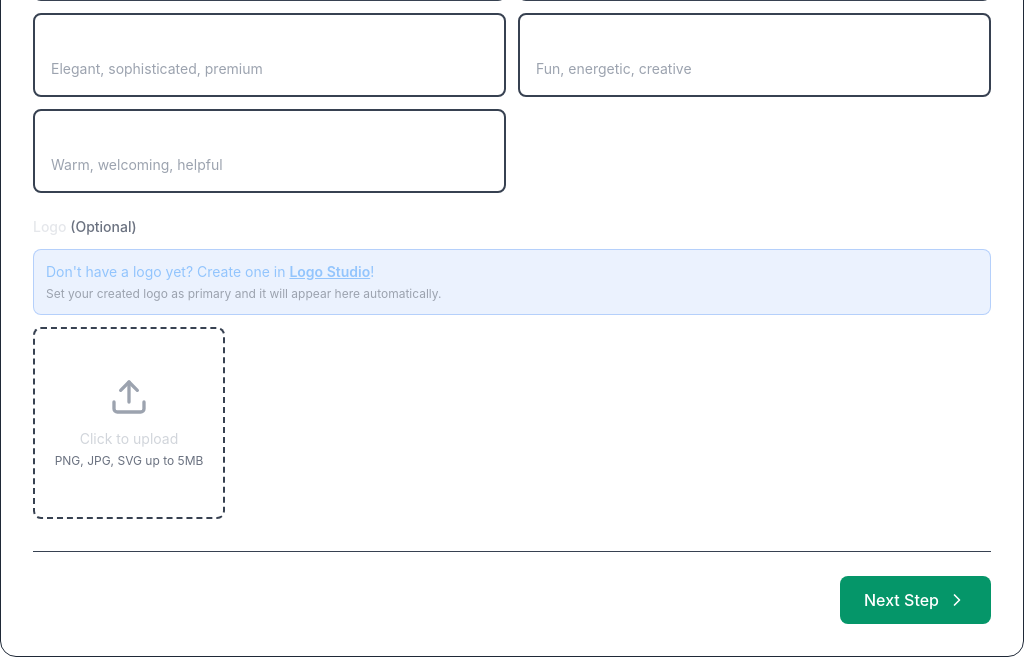
Test: WizardContainer › advances to next step when Next button clicked
(page scrolled)
Step 1. Click the button "Next Step" → [916, 600], box 840,576 -> 991,624
(page scrolled)
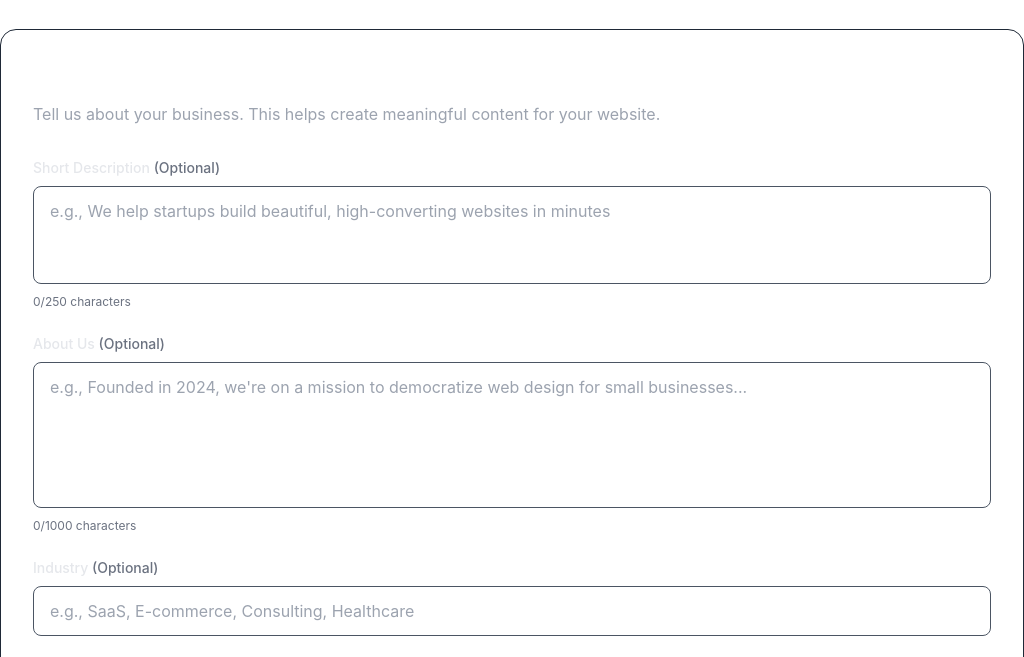
Check: the text "Tell us about your business. This helps create meaningful content for your website." is shown, box 33,104 -> 660,124
